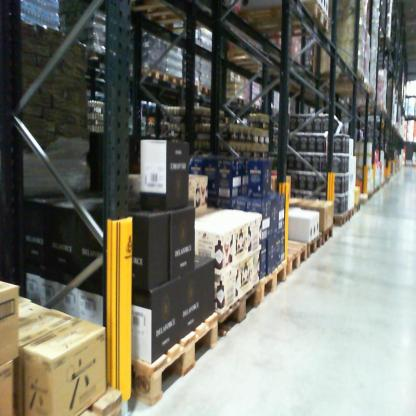pallet: (115, 301, 221, 415), (233, 6, 366, 85), (130, 1, 244, 32), (217, 276, 265, 343), (62, 379, 129, 415), (270, 233, 307, 291), (259, 257, 289, 311), (304, 229, 324, 258), (318, 221, 337, 247), (166, 65, 184, 92), (147, 62, 166, 87), (327, 210, 349, 231), (177, 76, 200, 94), (343, 203, 355, 223), (223, 95, 246, 105), (201, 84, 216, 98), (250, 102, 266, 114), (405, 113, 415, 121)
